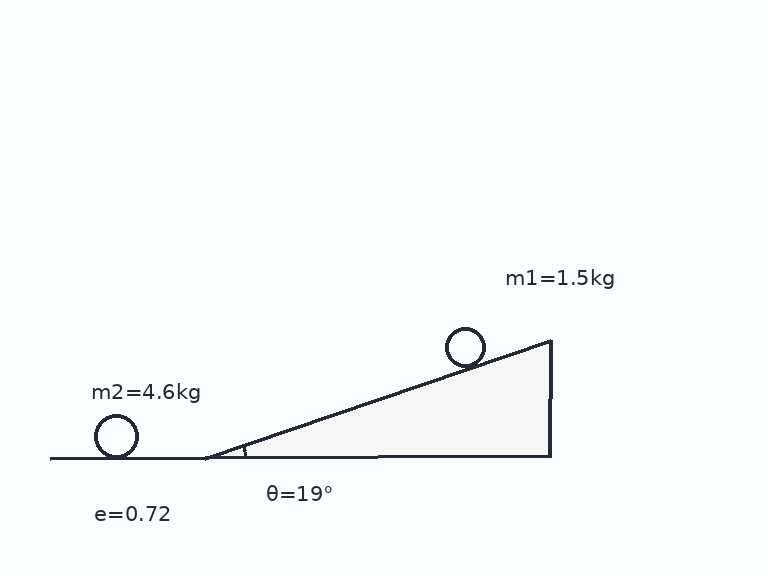ball: (92, 412, 140, 460), (443, 325, 487, 369)
ramp: (203, 337, 552, 460)
